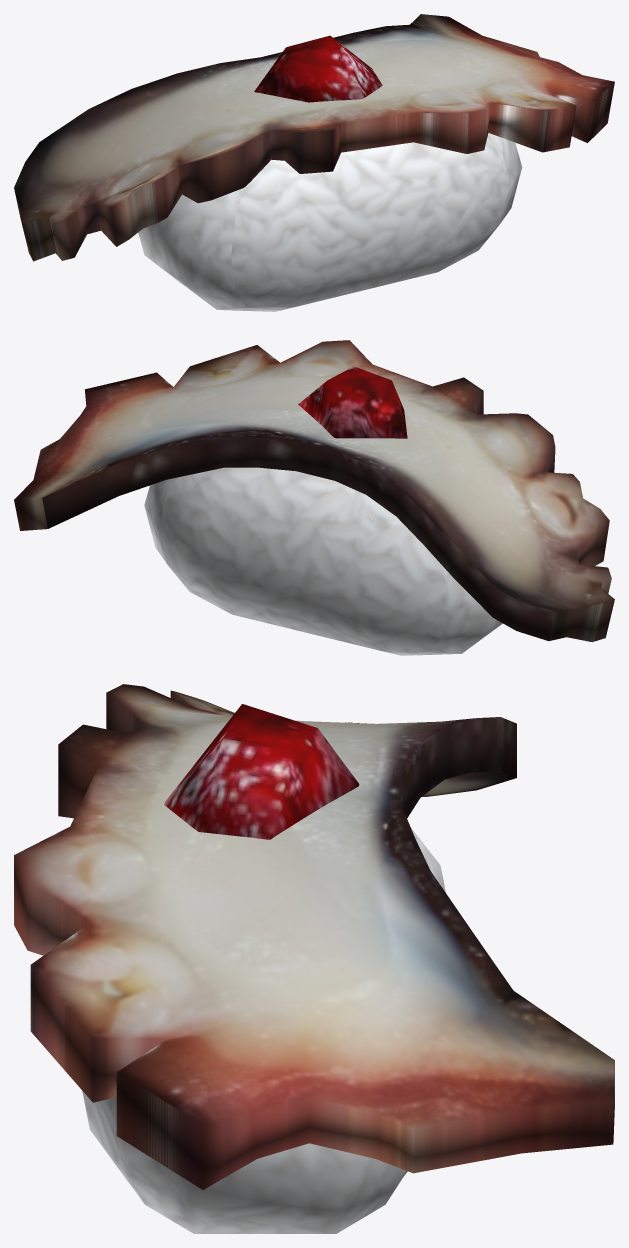
The model's file is octopus_3.fbx.
The picture shows the model from 3 angles, top to bottom: view 1: azimuth 30°, elevation 25°; view 2: azimuth 150°, elevation 25°; view 3: azimuth 270°, elevation 25°; orthographic projection. The views are drawn at different scales.
Parts seen in each view (by area): view 1: octopus_3; view 2: octopus_3; view 3: octopus_3.
Boxes of the visible parts, left/top/right/bottom form: octopus_3: left=14, top=14, right=614, bottom=311; octopus_3: left=14, top=340, right=614, bottom=655; octopus_3: left=14, top=684, right=614, bottom=1233.
Size of the model in its own units: 9.26 by 3.78 by 5.
